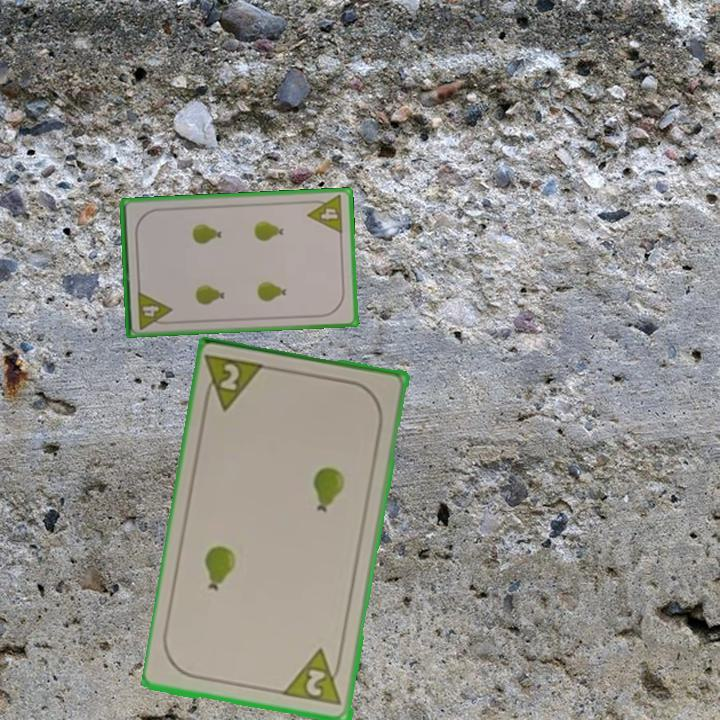2p: (199, 352, 269, 415), (281, 645, 346, 709)
4p: (304, 192, 346, 236), (134, 287, 174, 332)
